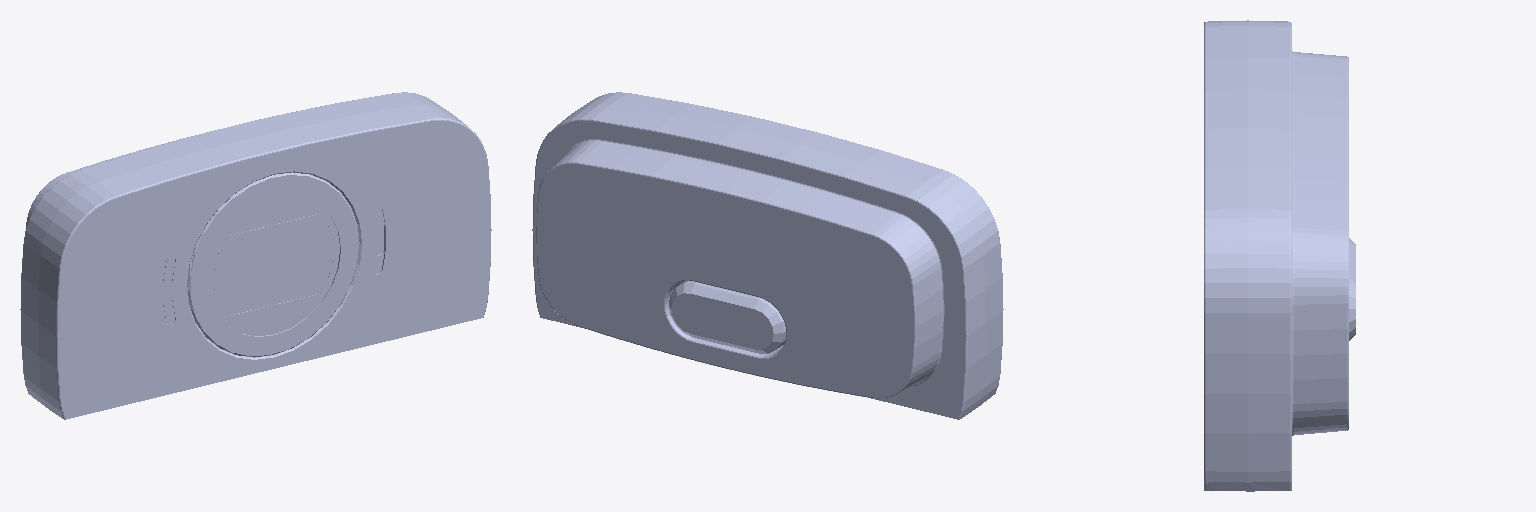
The robot description file, URDF, robot "camera":
<?xml version="1.0" encoding="utf-8"?>
<!-- This URDF was automatically created by SolidWorks to URDF Exporter! Originally created by [author] ([email redacted])
     Commit Version: 1.5.1-0-g916b5db  Build Version: 1.5.7152.31018
     For more information, please see http://wiki.ros.org/sw_urdf_exporter -->
<robot
  name="camera">
  <link
    name="camera">
    <inertial>
      <origin
        xyz="-2.8127E-06 0.0026271 0.0030077"
        rpy="0 0 0" />
      <mass
        value="0.030882" />
      <inertia
        ixx="2.9629E-06"
        ixy="-6.4432E-10"
        ixz="-3.2642E-11"
        iyy="1.2718E-05"
        iyz="-2.2674000000001E-09"
        izz="1.1075E-05" />
    </inertial>
    <visual>
      <origin
        xyz="0 0 0"
        rpy="1.5707963267949 0 0" />
      <geometry>
        <mesh
          filename="collision/camera.STL" />
      </geometry>
      <material
        name="">
        <color
          rgba="0.79216 0.81961 0.93333 1" />
      </material>
    </visual>
    <collision>
      <origin
        xyz="0 0 0"
        rpy="1.5707963267949 0 0" />
      <geometry>
        <mesh
          filename="collision/camera.STL" />
      </geometry>
    </collision>
  </link>
</robot>

--- Render facts (derived) ---
Views: 3 orthographic renders of the robot side by side, from view 1: azimuth 30°, elevation 25°; view 2: azimuth 150°, elevation 25°; view 3: azimuth 270°, elevation 25°.
Robot: camera — 1 links, 0 joints (none); root link camera; default pose: every joint at zero.
Visible links, largest first — view 1: camera; view 2: camera; view 3: camera.
Link boxes in pixels (x1,y1,x2,y2): camera: [20, 92, 491, 419]; camera: [532, 92, 1003, 419]; camera: [1204, 20, 1355, 491].
Size in the robot's own frame: 0.0682 by 0.0173 by 0.0326 metres.
Meshes: 1 distinct files referenced, 1 mesh visuals loaded (1 binary STL).